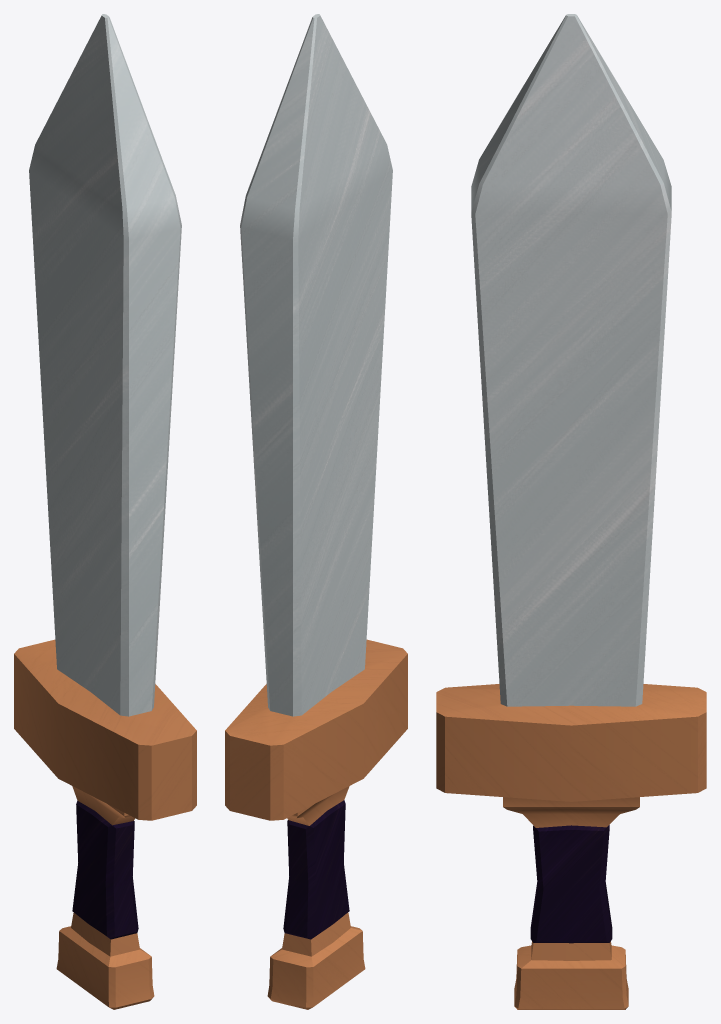
The model's file is SwordB.fbx.
3 views of the same model, side by side, from view 1: azimuth 30°, elevation 25°; view 2: azimuth 150°, elevation 25°; view 3: azimuth 270°, elevation 25° (orthographic).
Parts seen in each view (by area): view 1: sword B; view 2: sword B; view 3: sword B.
Boxes of the visible parts, x1,y1,x2,y2 form: sword B: (14, 14, 196, 1009); sword B: (225, 14, 407, 1009); sword B: (436, 14, 706, 1009).
Size of the model in its own units: 0.1488 by 1.46 by 0.3632.
